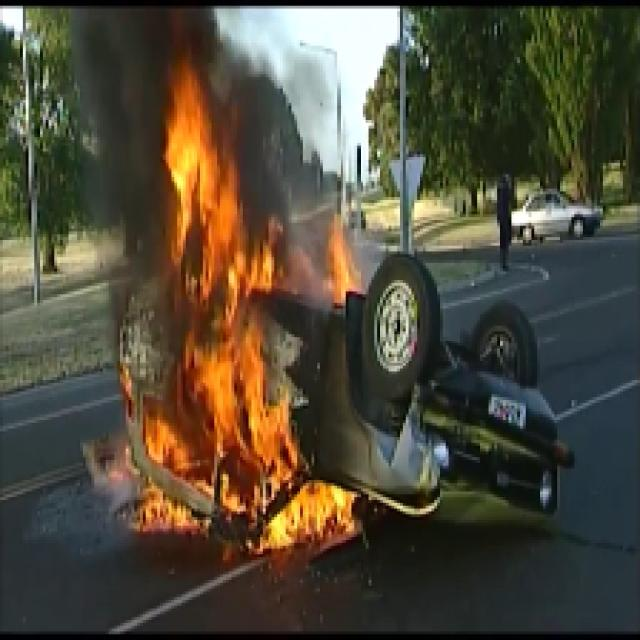fire: (168, 85, 268, 520)
smoke: (82, 6, 165, 239)
